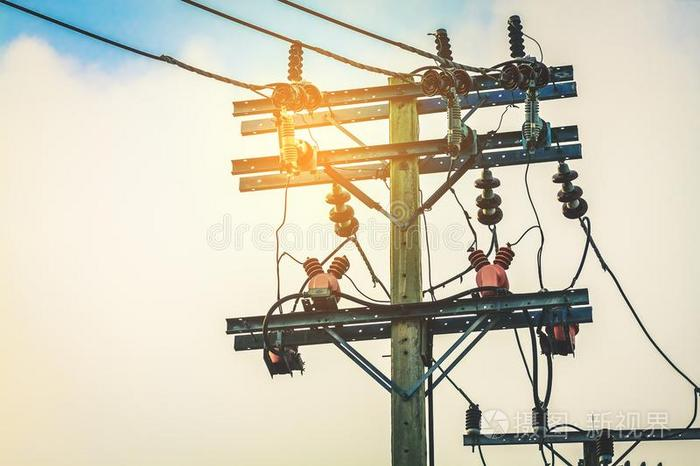insulator: (551, 170, 588, 216), (498, 62, 553, 91), (323, 190, 356, 236), (421, 70, 474, 98), (474, 177, 505, 224), (273, 85, 322, 111), (506, 15, 528, 58), (285, 44, 306, 80), (434, 35, 454, 62)
